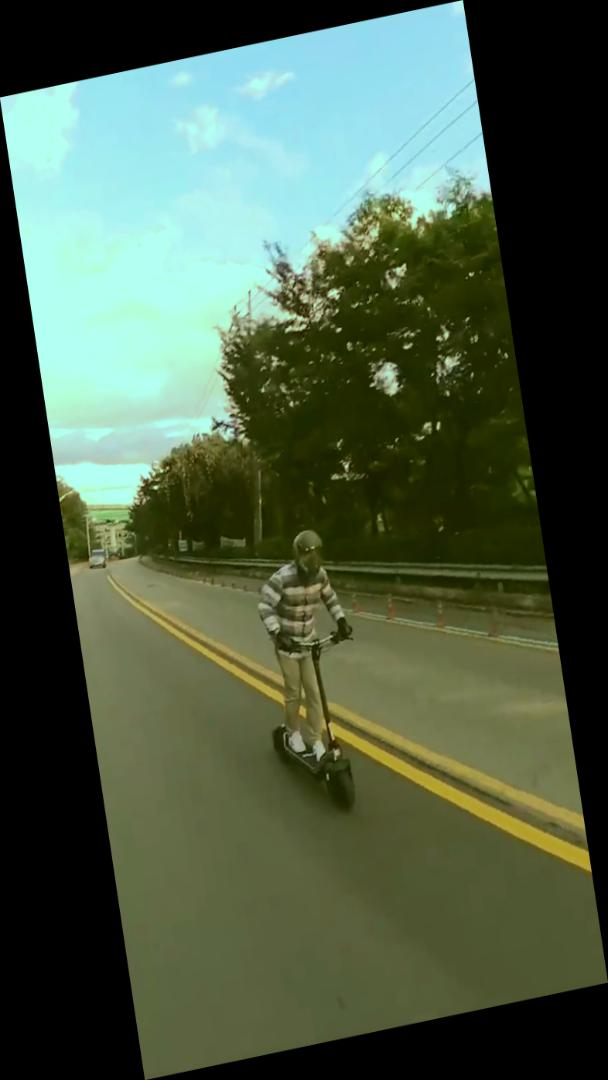helmet: (240, 517, 381, 827)
